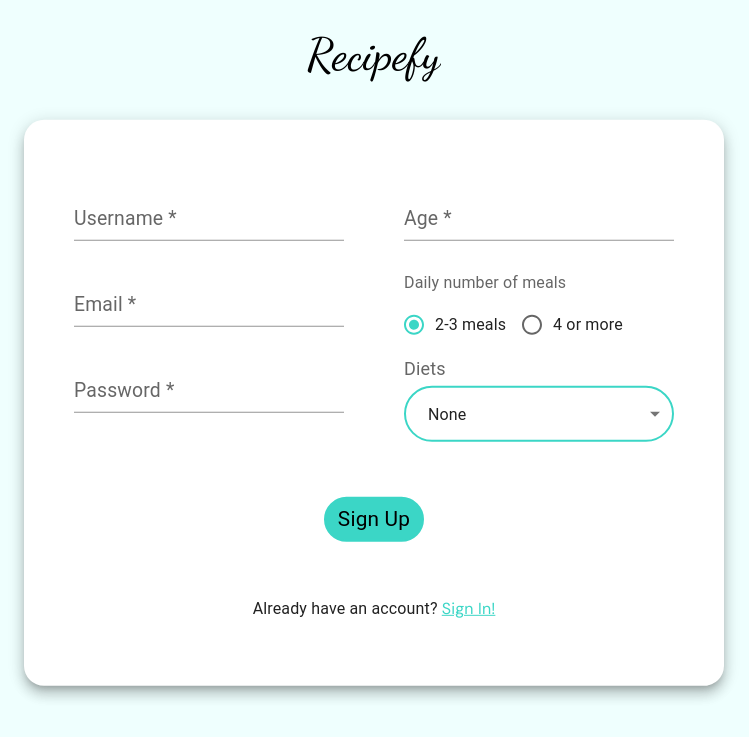
Test case: Auth forms tests › SignUpForm tests › throws validation errors when no inputs are passed
# Submits the form without passing any inputs
Click the text "Sign Up".
click(374, 520)  # box [324,497,424,542]
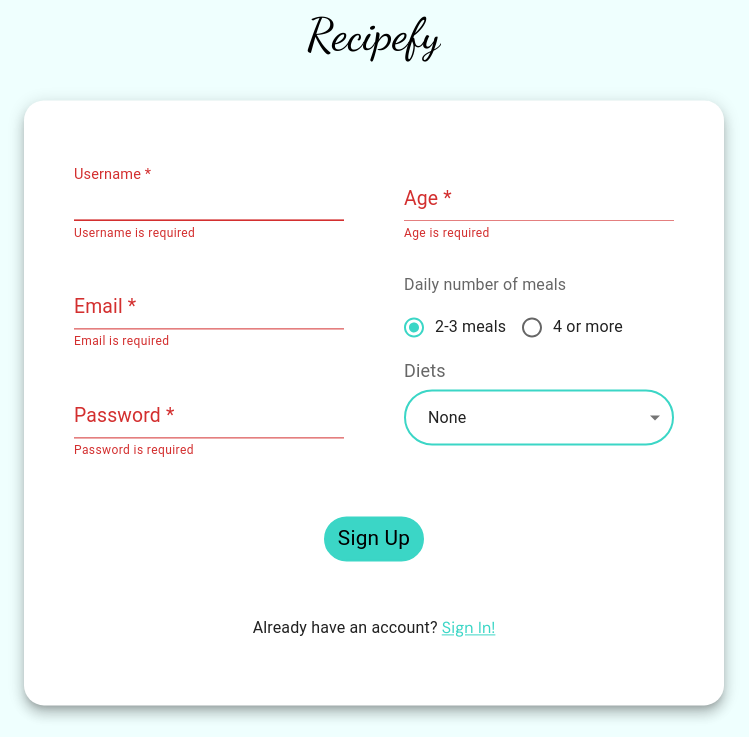
Expected: the text "Username is required" is shown, [74,226,195,240]
Expected: the text "Email is required" is shown, [74,335,169,349]
Expected: the text "Password is required" is shown, [74,444,194,458]
